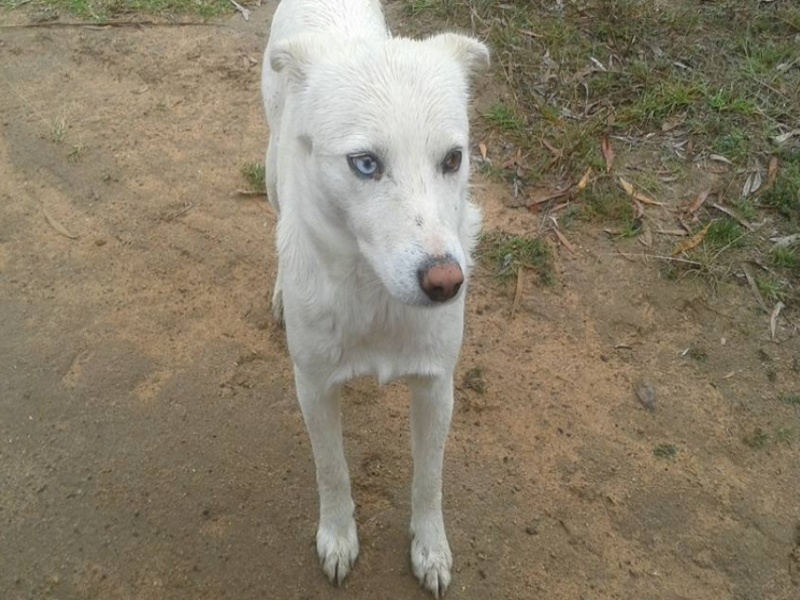dog: (261, 1, 480, 587)
